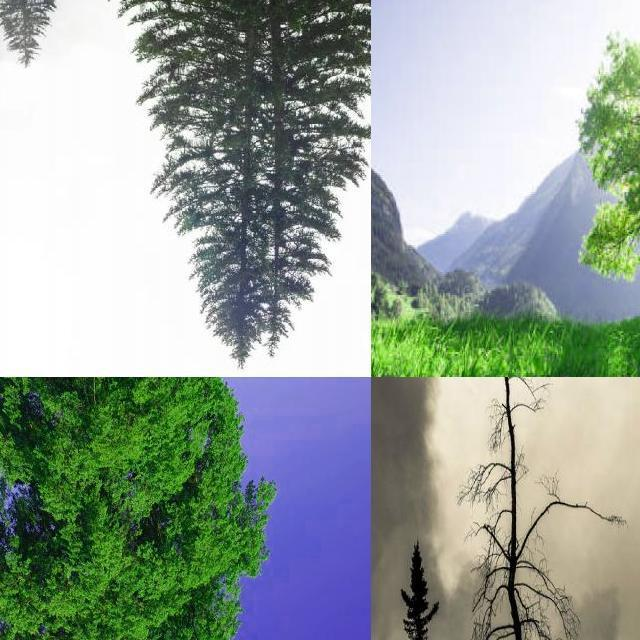tree: (109, 0, 371, 366), (0, 376, 268, 640), (457, 376, 627, 640), (568, 0, 640, 312), (0, 0, 70, 78), (396, 535, 434, 640)
